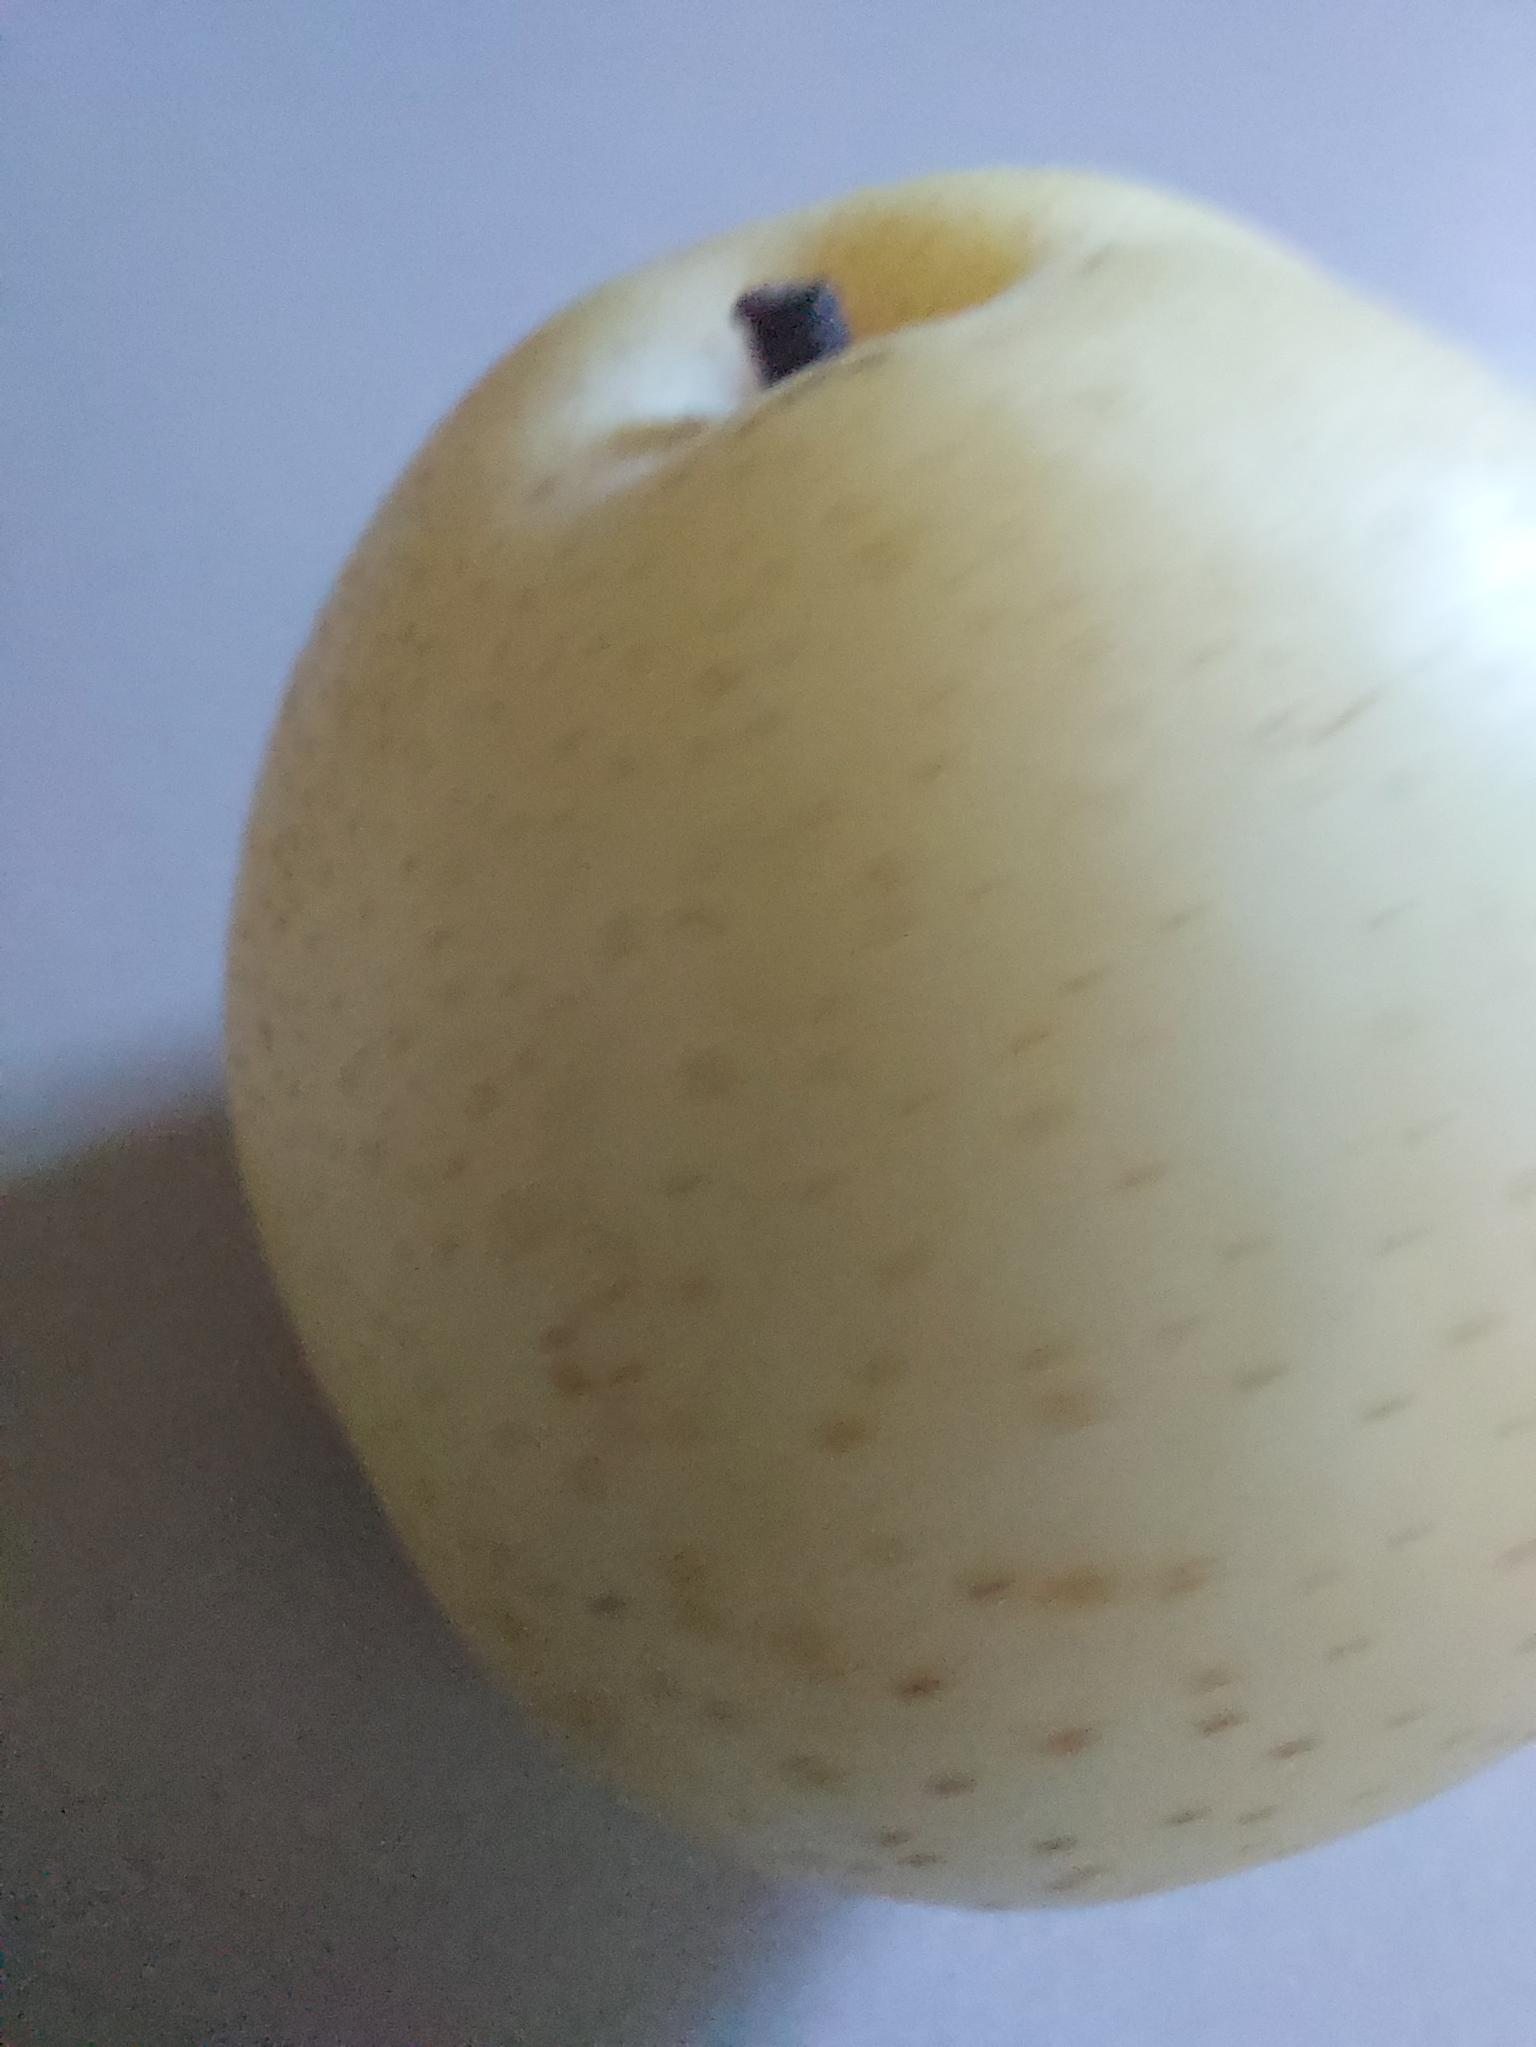Good Pear: (223, 153, 1536, 1892)
